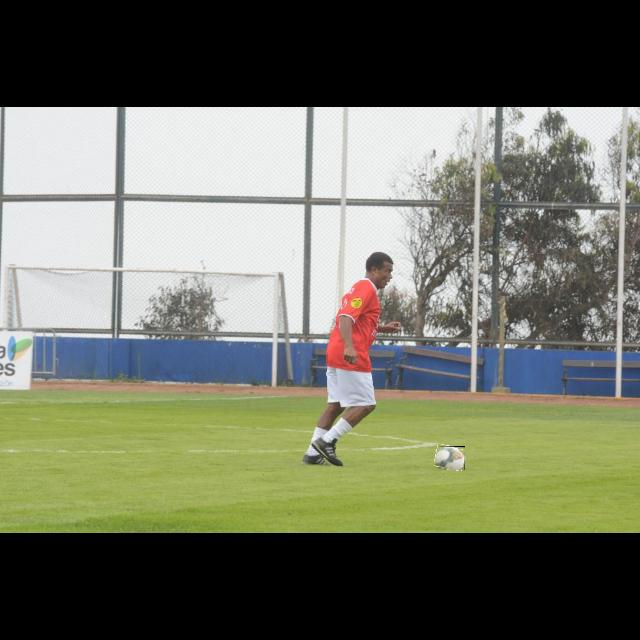Football: (435, 446, 465, 470)
